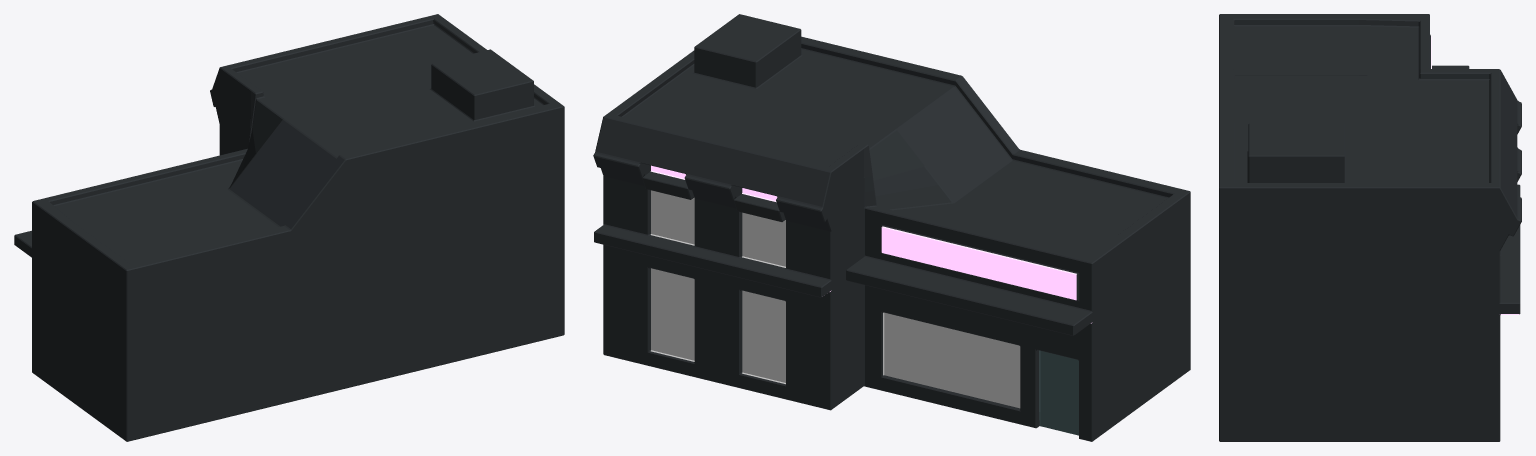
The model's file is Home3.fbx.
The picture shows the model from 3 angles, left to right: view 1: azimuth 30°, elevation 25°; view 2: azimuth 150°, elevation 25°; view 3: azimuth 270°, elevation 25°; orthographic projection. The views are drawn at different scales.
Parts seen in each view (by area): view 1: Cube; view 2: Cube; view 3: Cube.
Boxes of the visible parts, x1=… form: Cube: x1=14, y1=14, x2=564, y2=441; Cube: x1=593, y1=14, x2=1190, y2=441; Cube: x1=1219, y1=14, x2=1521, y2=441.
Bounding box in the file's own units: 400 × 217 × 215.
